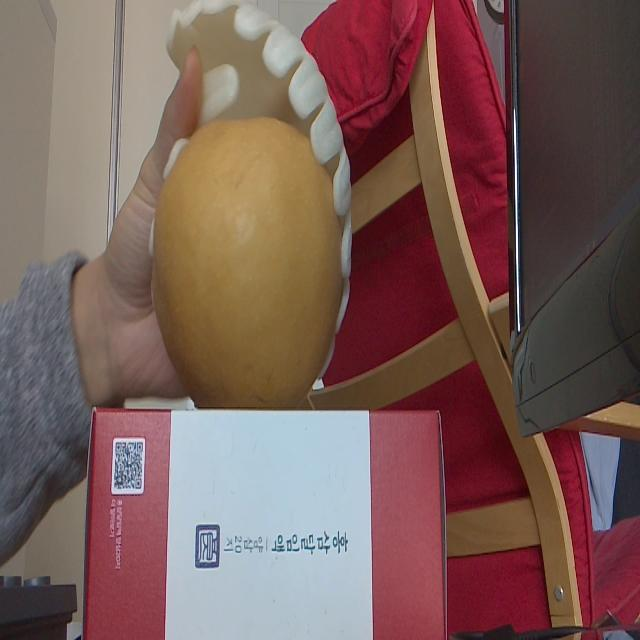pear: (155, 114, 344, 403)
